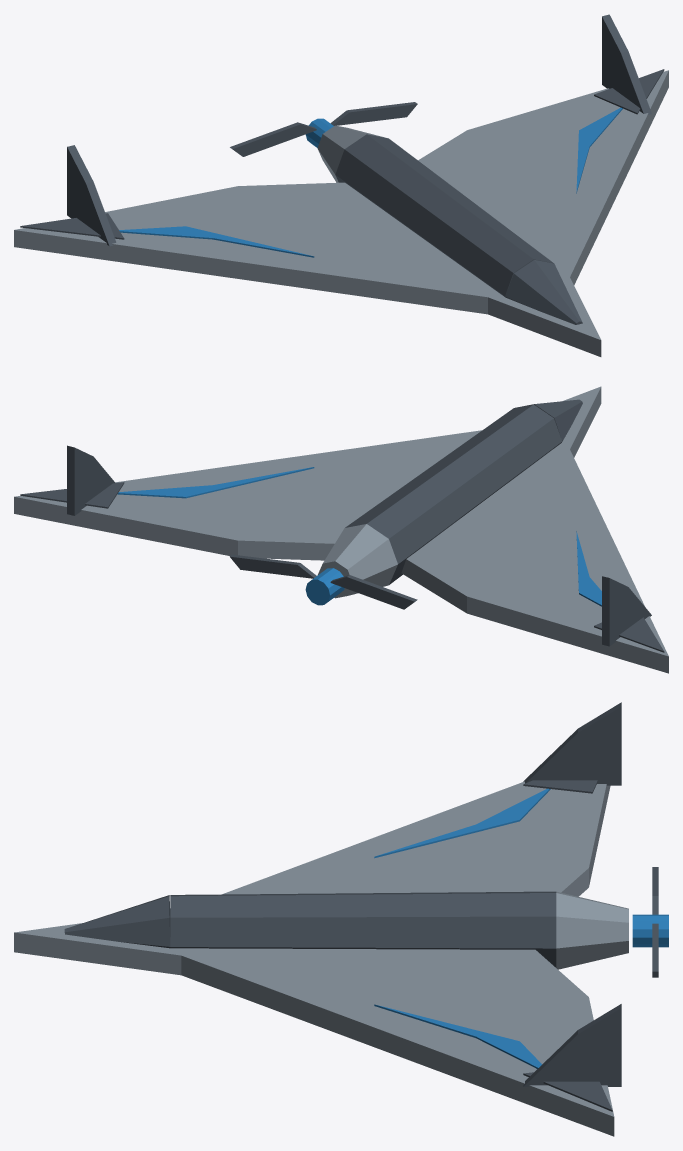
The model's file is Shahed_Style_Drone_01.fbx.
3 renders of one model, top to bottom at view 1: azimuth 30°, elevation 25°; view 2: azimuth 150°, elevation 25°; view 3: azimuth 270°, elevation 25°, orthographic. The views are drawn at different scales.
Parts seen in each view (by area): view 1: Shahed_Style_Drone_01_DeltaWing, Shahed_Style_Drone_01_CentralBody, Shahed_Style_Drone_01_TailFins, Shahed_Style_Drone_01_RearPropeller; view 2: Shahed_Style_Drone_01_DeltaWing, Shahed_Style_Drone_01_CentralBody, Shahed_Style_Drone_01_TailFins, Shahed_Style_Drone_01_RearPropeller; view 3: Shahed_Style_Drone_01_DeltaWing, Shahed_Style_Drone_01_CentralBody, Shahed_Style_Drone_01_TailFins, Shahed_Style_Drone_01_RearPropeller.
Part boxes in pixels (left/top/right/bottom): Shahed_Style_Drone_01_DeltaWing: left=14, top=69, right=668, bottom=356; Shahed_Style_Drone_01_CentralBody: left=317, top=125, right=582, bottom=324; Shahed_Style_Drone_01_TailFins: left=67, top=14, right=651, bottom=246; Shahed_Style_Drone_01_RearPropeller: left=230, top=102, right=417, bottom=156; Shahed_Style_Drone_01_DeltaWing: left=14, top=386, right=668, bottom=673; Shahed_Style_Drone_01_CentralBody: left=317, top=399, right=582, bottom=598; Shahed_Style_Drone_01_TailFins: left=67, top=445, right=651, bottom=646; Shahed_Style_Drone_01_RearPropeller: left=229, top=554, right=417, bottom=609; Shahed_Style_Drone_01_DeltaWing: left=14, top=780, right=614, bottom=1136; Shahed_Style_Drone_01_CentralBody: left=64, top=891, right=628, bottom=969; Shahed_Style_Drone_01_TailFins: left=523, top=702, right=621, bottom=1086; Shahed_Style_Drone_01_RearPropeller: left=632, top=867, right=668, bottom=977.
Size of the model in its own units: 2.4 by 0.345 by 1.8.
